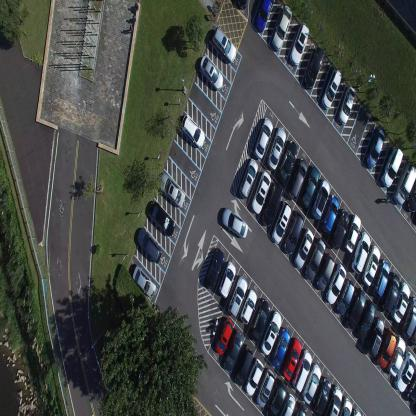car: (276, 138, 297, 188), (147, 201, 175, 238), (261, 181, 284, 226), (394, 159, 416, 205), (380, 146, 404, 188), (272, 3, 293, 51), (260, 311, 282, 356), (158, 172, 186, 207), (249, 297, 270, 343), (211, 26, 237, 63), (394, 350, 416, 393), (136, 227, 162, 263), (223, 328, 244, 372), (271, 200, 292, 244), (325, 262, 347, 304), (300, 165, 320, 211), (304, 46, 325, 89), (251, 170, 271, 215), (284, 210, 304, 255), (305, 236, 325, 281), (266, 126, 286, 171), (351, 230, 371, 275), (198, 54, 223, 90), (204, 248, 225, 290), (228, 275, 248, 319), (282, 338, 302, 382), (292, 349, 312, 393), (346, 286, 366, 330), (356, 298, 376, 342), (288, 157, 308, 201), (290, 22, 310, 66), (265, 379, 289, 415), (301, 363, 322, 404), (238, 157, 258, 200), (294, 226, 314, 269), (321, 67, 341, 110), (221, 208, 249, 238), (376, 327, 396, 369), (390, 282, 410, 324), (131, 265, 156, 298), (365, 315, 384, 358), (181, 114, 205, 148), (235, 344, 254, 386), (330, 208, 349, 250), (272, 326, 290, 370), (255, 116, 273, 160), (256, 367, 275, 408), (366, 127, 385, 168), (382, 272, 400, 315), (336, 277, 356, 315), (388, 336, 406, 378), (362, 245, 380, 287), (245, 357, 264, 396), (312, 378, 332, 415), (312, 179, 330, 220), (338, 84, 356, 125), (316, 253, 335, 291), (372, 259, 390, 299), (400, 296, 416, 340), (218, 260, 236, 299), (322, 195, 340, 234), (215, 316, 233, 354), (344, 214, 361, 254), (322, 384, 342, 416), (240, 289, 257, 326), (254, 0, 272, 33), (279, 390, 296, 415), (405, 180, 415, 213), (405, 370, 415, 402), (337, 396, 353, 415), (293, 402, 307, 416), (408, 327, 416, 344), (236, 0, 248, 11), (408, 400, 416, 416), (350, 408, 362, 416)
